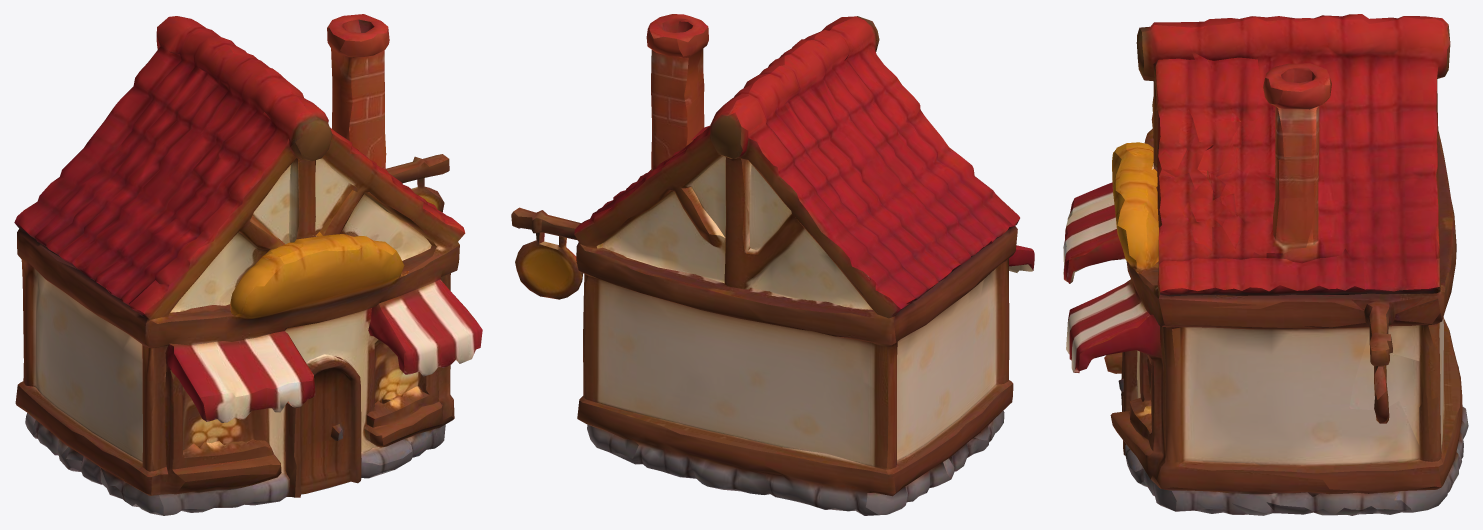
File: bakery.glb
The picture shows the model from 3 angles, left to right: view 1: azimuth 30°, elevation 25°; view 2: azimuth 150°, elevation 25°; view 3: azimuth 270°, elevation 25°; orthographic projection. The views are drawn at different scales.
Parts seen in each view (by area): view 1: bakery; view 2: bakery; view 3: bakery.
Boxes of the visible parts, left/top/right/bottom form: bakery: left=14, top=14, right=482, bottom=515; bakery: left=511, top=14, right=1034, bottom=515; bakery: left=1063, top=14, right=1468, bottom=515.
Bounding box in the file's own units: 1 × 0.888 × 0.7697.
1 material, 1 textured.
